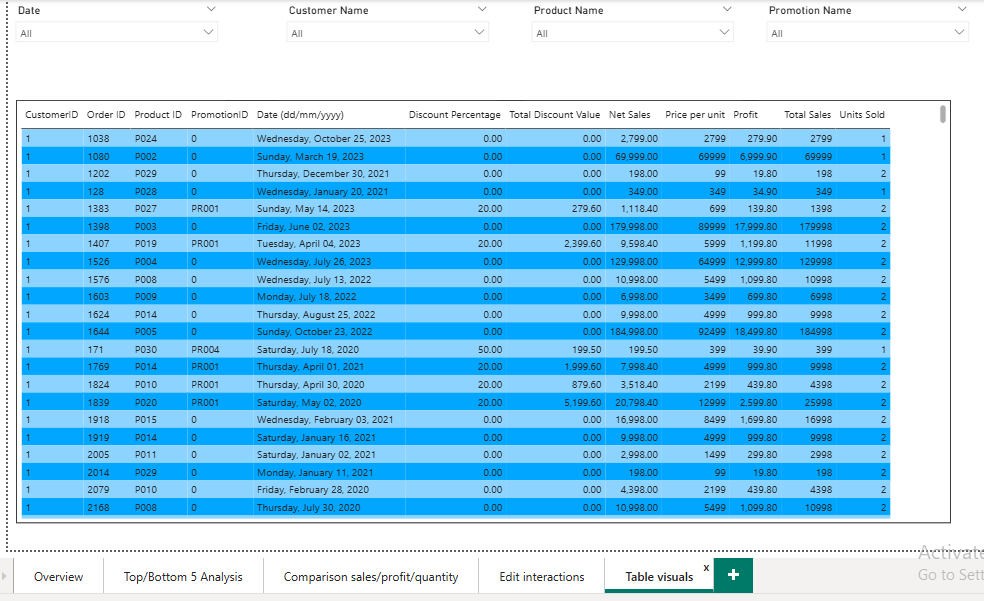

The dashboard page shown, as its layout file describes it:
{"tool":"powerbi","page":{"name":"Table visuals","canvas":[1280,720],"ordinal":4},"visuals":[{"type":"tableEx","fields":{"Values":["Fact Table.CustomerID","Fact Table.Order ID","Fact Table.Product ID","Fact Table.PromotionID","Fact Table.Date (dd/mm/yyyy)","Fact Table.Discount Percentage","Fact Table.Discount Value","Fact Table.Net Sales","Fact Table.Price per unit","Fact Table.Profit","Fact Table.Total Sales","Fact Table.Units Sold"]},"box":[10.1,131,1224,554.4],"z":0},{"type":"slicer","fields":{"Values":["Date table 1.Date"]},"box":[0,0,285.1,131],"z":1},{"type":"slicer","fields":{"Values":["Dim Customers.Customer Name"]},"box":[354.2,0,285.1,131],"z":2},{"type":"slicer","fields":{"Values":["Dim Product.Product Name"]},"box":[675.4,0,285.1,131],"z":3},{"type":"slicer","fields":{"Values":["Dim Promotion.Promotion Name"]},"box":[983.5,0,285.1,131],"z":4}]}

Visuals, with their boxes on the page's 1280x720 design canvas (x1, y1, x2, y2). These are canvas units, not pixel positions in the 984x601 screenshot, which may show the page scaled, cropped or inside an application window:
tableEx - Fact Table.CustomerID x Fact Table.Order ID: [10, 131, 1234, 685]
slicer - Date table 1.Date: [0, 0, 285, 131]
slicer - Dim Customers.Customer Name: [354, 0, 639, 131]
slicer - Dim Product.Product Name: [675, 0, 960, 131]
slicer - Dim Promotion.Promotion Name: [984, 0, 1269, 131]
